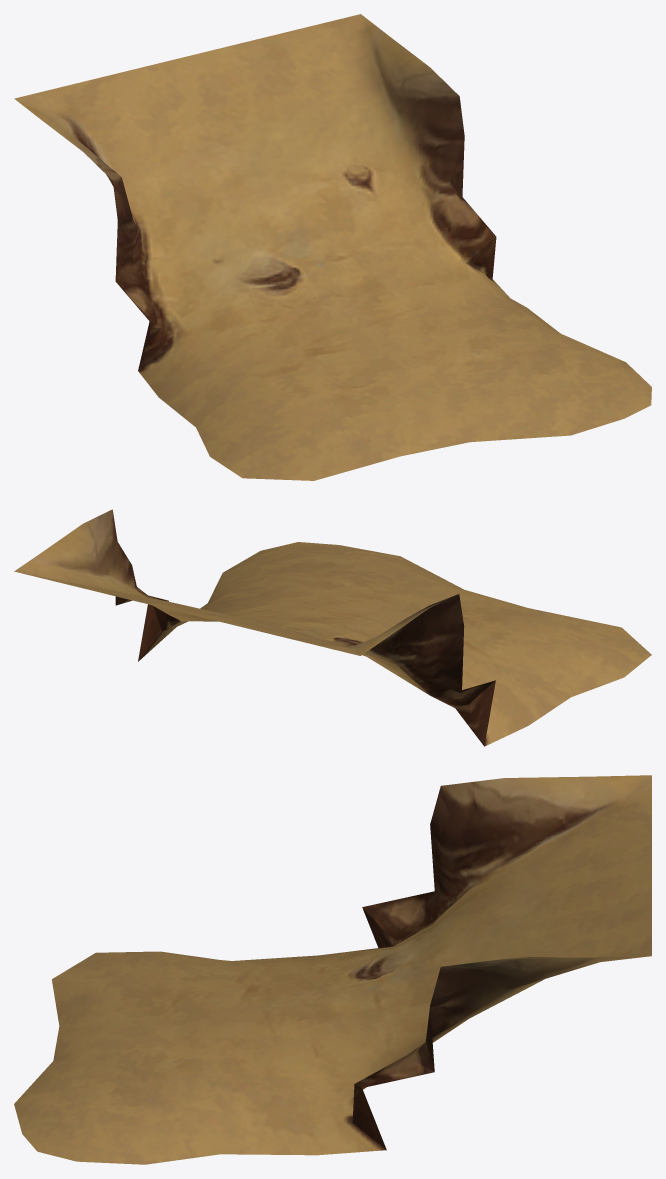
Rendered from nashgar_stair_base2_p1_01.FBX.
3 views of the same model, one above another, from view 1: azimuth 30°, elevation 25°; view 2: azimuth 150°, elevation 25°; view 3: azimuth 270°, elevation 25° (orthographic). The views are drawn at different scales.
Parts seen in each view (by area): view 1: nashgar_stair_base2_p1_01; view 2: nashgar_stair_base2_p1_01; view 3: nashgar_stair_base2_p1_01.
Boxes of the visible parts, box(x1,y1,x2,y2) form: nashgar_stair_base2_p1_01: box(14, 14, 651, 480); nashgar_stair_base2_p1_01: box(14, 509, 651, 746); nashgar_stair_base2_p1_01: box(14, 775, 651, 1164).
Bounding box in the file's own units: 4.71 × 2 × 5.96.
